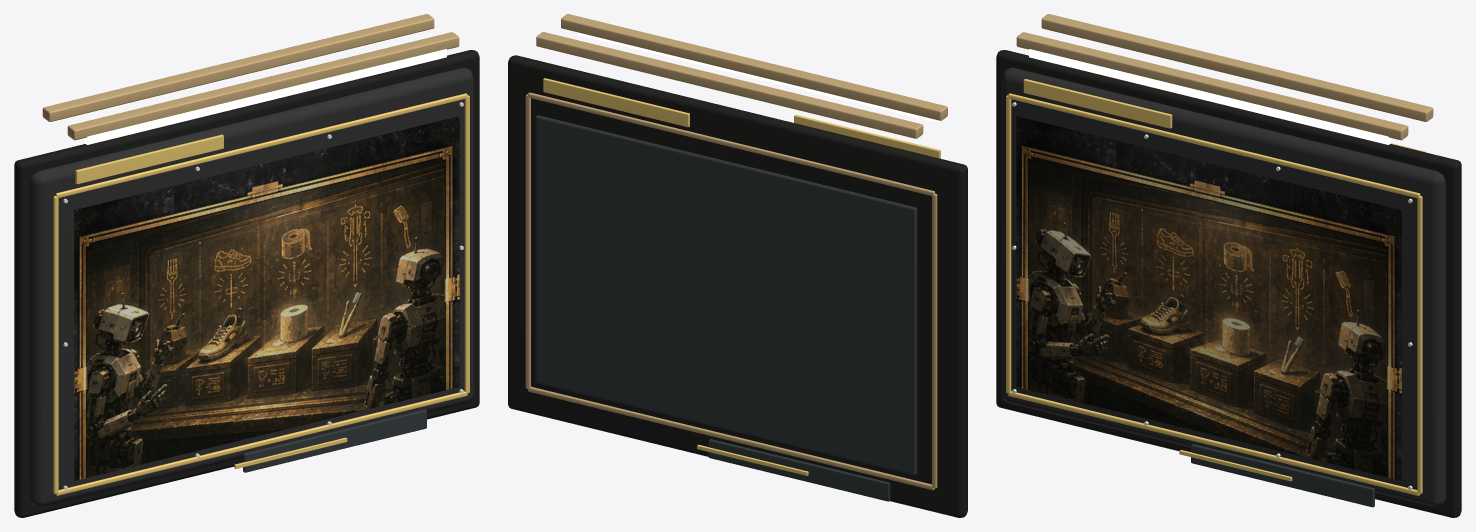
File: age_museum_wall_art_protocol_diagram.glb
3 views of the same model, side by side, from view 1: azimuth 30°, elevation 25°; view 2: azimuth 150°, elevation 25°; view 3: azimuth 330°, elevation 25° (orthographic).
Parts seen in each view (by area): view 1: age_museum_wall_art_protocol_diagram_front_image2_readable_f, age_museum_wall_art_protocol_diagram_blackened_metal_frame, age_museum_wall_art_protocol_diagram_shadow_gap, age_museum_wall_art_protocol_diagram_aged_bronze_inner_frame (×4), age_museum_wall_art_protocol_diagram_back_gallery_light_bron, age_museum_wall_art_protocol_diagram_gallery_light_bronze_sh, age_museum_wall_art_protocol_diagram_gallery_white_wall_wash, age_museum_wall_art_protocol_diagram_lower_caption_plate, age_museum_wall_art_protocol_diagram_small_archive_title_tag, age_museum_wall_art_protocol_diagram_lower_caption_gold_rule; view 2: age_museum_wall_art_protocol_diagram_back_matte_archive_plat, age_museum_wall_art_protocol_diagram_shadow_gap, age_museum_wall_art_protocol_diagram_back_aged_bronze_inner_ (×4), age_museum_wall_art_protocol_diagram_back_gallery_light_bron, age_museum_wall_art_protocol_diagram_gallery_light_bronze_sh, age_museum_wall_art_protocol_diagram_back_lower_caption_plat, age_museum_wall_art_protocol_diagram_back_small_archive_titl, age_museum_wall_art_protocol_diagram_small_archive_title_tag, age_museum_wall_art_protocol_diagram_gallery_white_wall_wash, age_museum_wall_art_protocol_diagram_back_lower_caption_gold; view 3: age_museum_wall_art_protocol_diagram_front_image2_readable_f, age_museum_wall_art_protocol_diagram_blackened_metal_frame, age_museum_wall_art_protocol_diagram_shadow_gap, age_museum_wall_art_protocol_diagram_aged_bronze_inner_frame (×4), age_museum_wall_art_protocol_diagram_back_gallery_light_bron, age_museum_wall_art_protocol_diagram_gallery_light_bronze_sh, age_museum_wall_art_protocol_diagram_gallery_white_wall_wash, age_museum_wall_art_protocol_diagram_lower_caption_plate, age_museum_wall_art_protocol_diagram_small_archive_title_tag, age_museum_wall_art_protocol_diagram_lower_caption_gold_rule.
Boxes of the visible parts, box(x1,y1,x2,y2) form: age_museum_wall_art_protocol_diagram_front_image2_readable_f: box(74, 116, 459, 480); age_museum_wall_art_protocol_diagram_blackened_metal_frame: box(30, 67, 473, 506); age_museum_wall_art_protocol_diagram_shadow_gap: box(14, 50, 479, 517); age_museum_wall_art_protocol_diagram_aged_bronze_inner_frame (×4): box(53, 93, 469, 495); age_museum_wall_art_protocol_diagram_back_gallery_light_bron: box(42, 14, 434, 121); age_museum_wall_art_protocol_diagram_gallery_light_bronze_sh: box(67, 32, 459, 140); age_museum_wall_art_protocol_diagram_gallery_white_wall_wash: box(85, 49, 446, 144); age_museum_wall_art_protocol_diagram_lower_caption_plate: box(243, 409, 426, 472); age_museum_wall_art_protocol_diagram_small_archive_title_tag: box(75, 134, 223, 184); age_museum_wall_art_protocol_diagram_lower_caption_gold_rule: box(234, 437, 347, 468); age_museum_wall_art_protocol_diagram_back_matte_archive_plat: box(535, 115, 917, 474); age_museum_wall_art_protocol_diagram_shadow_gap: box(508, 55, 967, 517); age_museum_wall_art_protocol_diagram_back_aged_bronze_inner_ (×4): box(525, 92, 937, 490); age_museum_wall_art_protocol_diagram_back_gallery_light_bron: box(536, 32, 923, 138); age_museum_wall_art_protocol_diagram_gallery_light_bronze_sh: box(561, 14, 947, 120); age_museum_wall_art_protocol_diagram_back_lower_caption_plat: box(708, 439, 890, 501); age_museum_wall_art_protocol_diagram_back_small_archive_titl: box(543, 78, 689, 127); age_museum_wall_art_protocol_diagram_small_archive_title_tag: box(794, 114, 940, 158); age_museum_wall_art_protocol_diagram_gallery_white_wall_wash: box(578, 32, 935, 121); age_museum_wall_art_protocol_diagram_back_lower_caption_gold: box(697, 444, 808, 475); age_museum_wall_art_protocol_diagram_front_image2_readable_f: box(1016, 116, 1401, 480); age_museum_wall_art_protocol_diagram_blackened_metal_frame: box(1002, 67, 1445, 506); age_museum_wall_art_protocol_diagram_shadow_gap: box(996, 50, 1461, 517); age_museum_wall_art_protocol_diagram_aged_bronze_inner_frame (×4): box(1006, 93, 1422, 495); age_museum_wall_art_protocol_diagram_back_gallery_light_bron: box(1041, 14, 1433, 121); age_museum_wall_art_protocol_diagram_gallery_light_bronze_sh: box(1016, 32, 1408, 140); age_museum_wall_art_protocol_diagram_gallery_white_wall_wash: box(1029, 49, 1390, 144); age_museum_wall_art_protocol_diagram_lower_caption_plate: box(1191, 444, 1374, 507); age_museum_wall_art_protocol_diagram_small_archive_title_tag: box(1023, 79, 1172, 128); age_museum_wall_art_protocol_diagram_lower_caption_gold_rule: box(1179, 450, 1292, 481).
Bounding box in the file's own units: 1.82 × 1.48 × 0.228.
8 materials, 1 textured.
